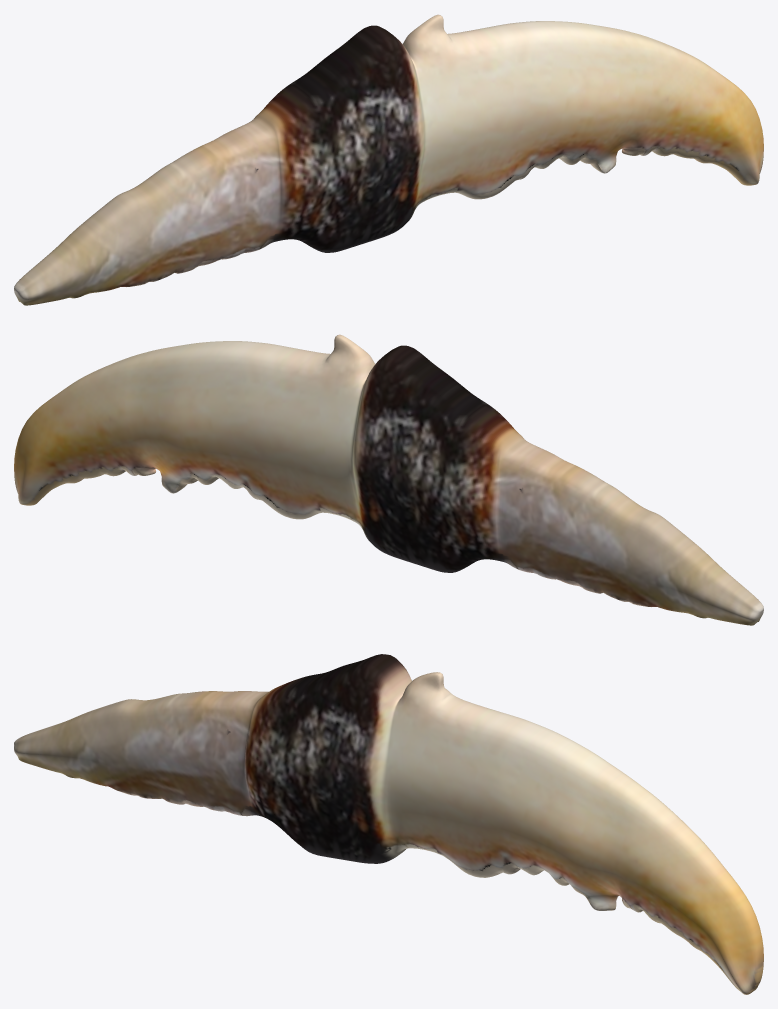
The model's file is pietra3.gltf.
3 views of the same model, one above another, from view 1: azimuth 30°, elevation 25°; view 2: azimuth 150°, elevation 25°; view 3: azimuth 330°, elevation 25° (orthographic).
Parts seen in each view (by area): view 1: Superficie_di_Suddivisione_1; view 2: Superficie_di_Suddivisione_1; view 3: Superficie_di_Suddivisione_1.
Boxes of the visible parts, bbox=[...] form: Superficie_di_Suddivisione_1: bbox=[14, 14, 763, 305]; Superficie_di_Suddivisione_1: bbox=[14, 334, 763, 625]; Superficie_di_Suddivisione_1: bbox=[14, 654, 763, 994].
Bounding box in the file's own units: 8.09 × 2.53 × 0.9763.
1 material, 1 textured.
